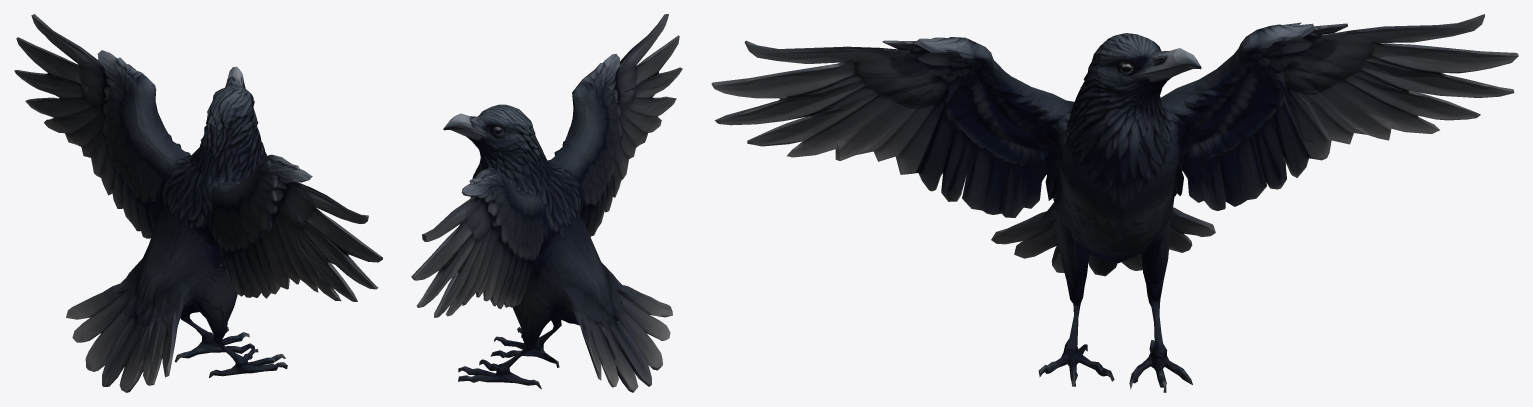
Rendered from raven_texture.obj.
3 views of the same model, side by side, from view 1: azimuth 30°, elevation 25°; view 2: azimuth 150°, elevation 25°; view 3: azimuth 270°, elevation 25° (orthographic). The views are drawn at different scales.
Parts seen in each view (by area): view 1: raven_texture; view 2: raven_texture; view 3: raven_texture.
Boxes of the visible parts, left/top/right/bottom form: raven_texture: left=14, top=14, right=382, bottom=392; raven_texture: left=411, top=14, right=682, bottom=392; raven_texture: left=711, top=14, right=1518, bottom=392.
Bounding box in the file's own units: 0.3135 × 0.4671 × 0.9965.
Materials: 1 (1 with a texture image).
